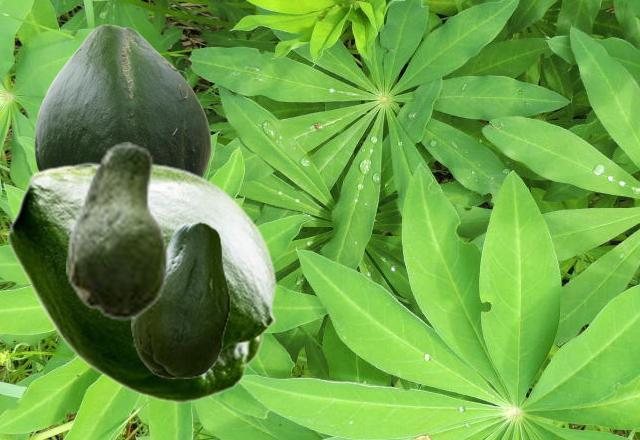sayote: (7, 162, 276, 402), (34, 24, 210, 176), (66, 142, 167, 320), (131, 221, 229, 377)
